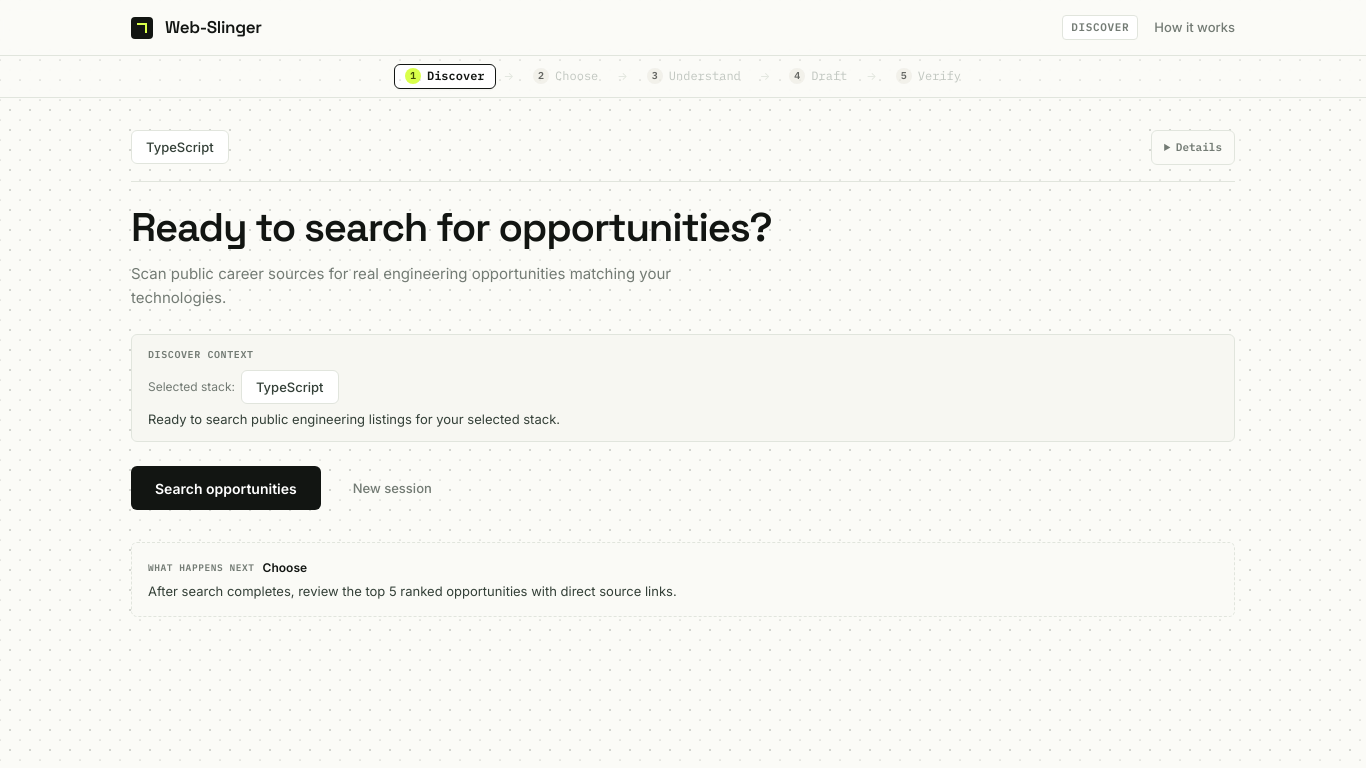
Test: App Decision Canvas Flow & Accessibility › resets session and clears sessionStorage
Expected: the heading "Ready to search for opportunities?" is shown, 131,202 -> 772,253
Click the button "New session" at (392,488), box 337,466 -> 448,510
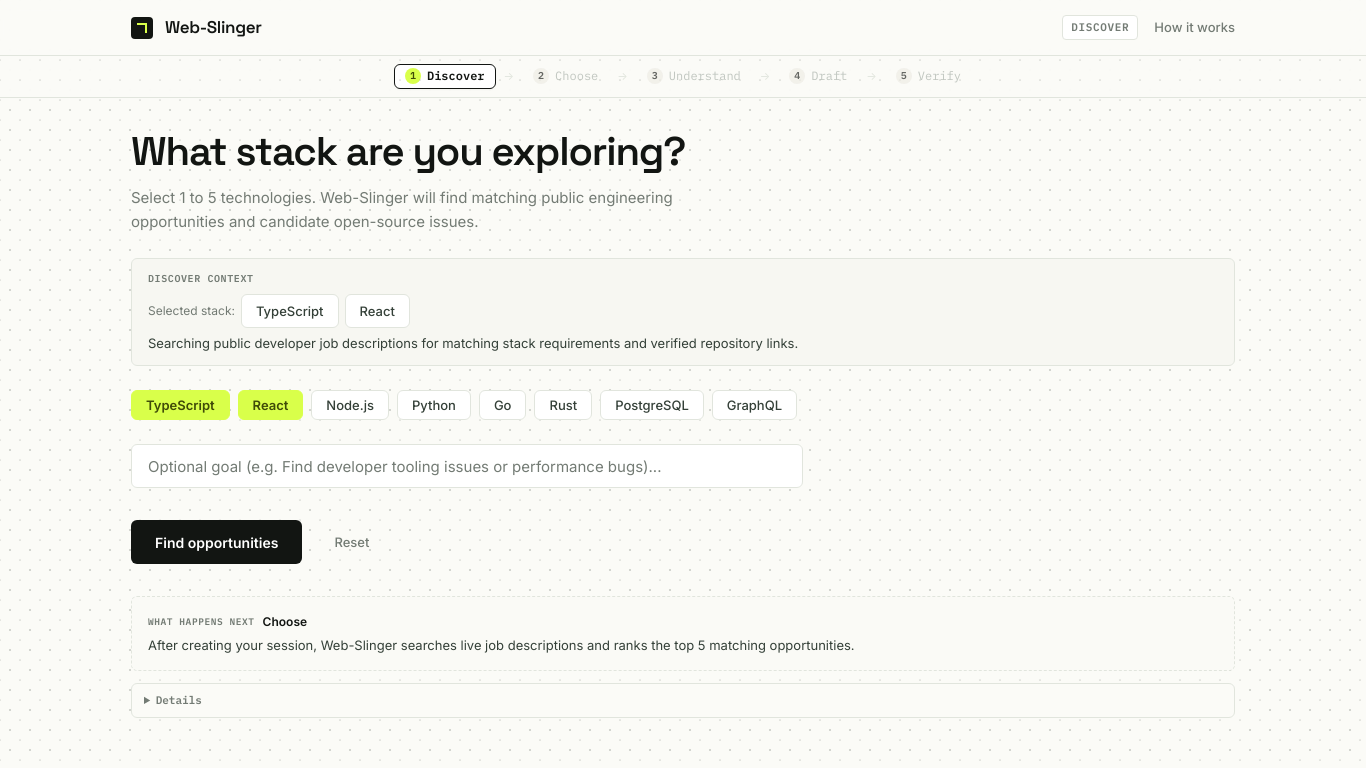
Result: the heading "What stack are you exploring?" is shown at 131,126 -> 685,177
